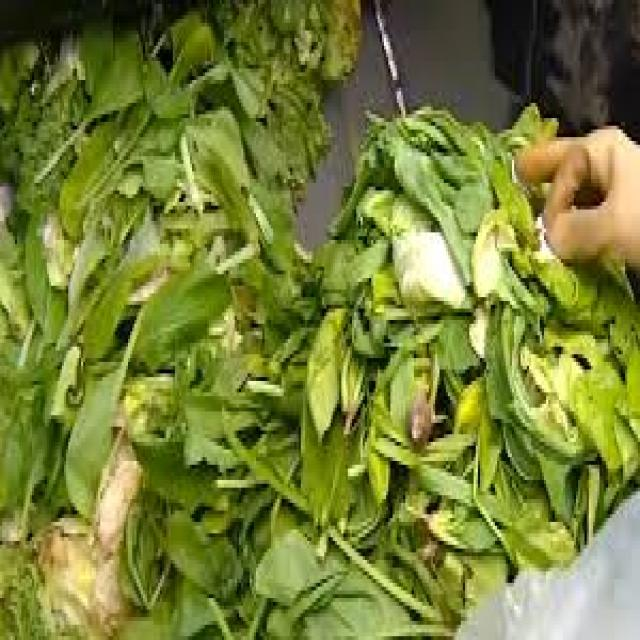organic waste: (0, 194, 297, 636), (0, 0, 358, 194), (335, 232, 544, 564), (286, 236, 388, 636), (326, 103, 555, 236), (542, 259, 638, 568), (386, 564, 461, 636)
